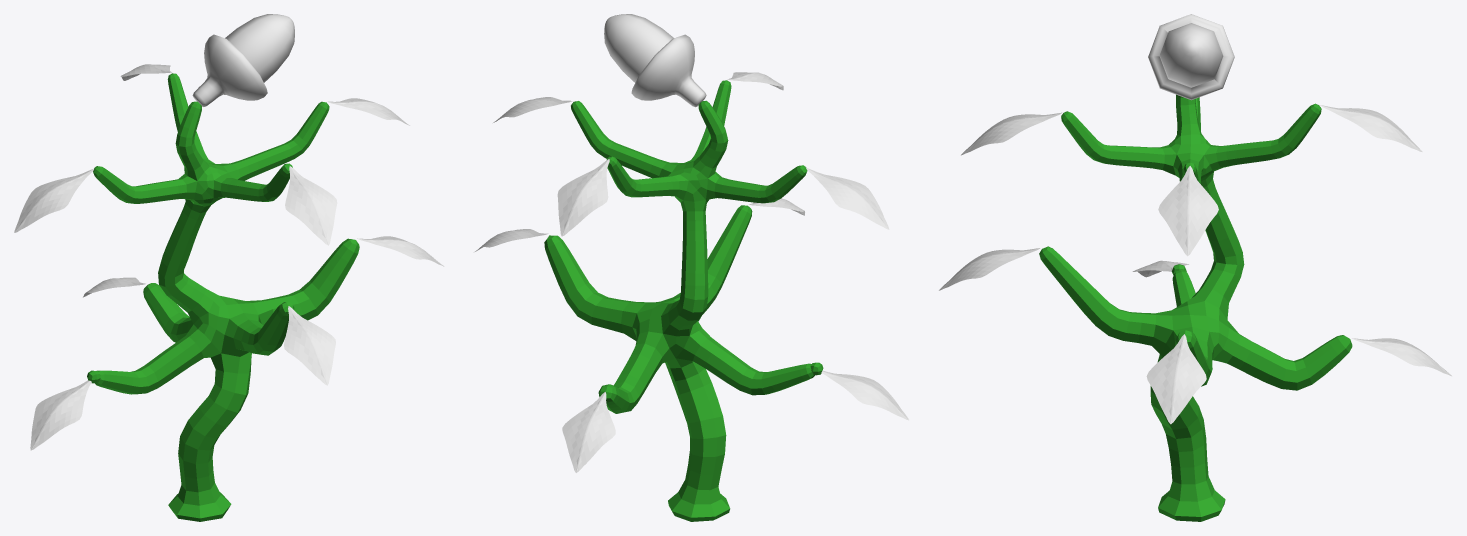
Rendered from cropState3.fbx.
3 renders of one model, left to right at view 1: azimuth 30°, elevation 25°; view 2: azimuth 150°, elevation 25°; view 3: azimuth 270°, elevation 25°, orthographic. The views are drawn at different scales.
Visible parts, largest first — view 1: tallo3, hojas3, fruit; view 2: tallo3, hojas3, fruit; view 3: tallo3, hojas3, fruit.
Boxes of the visible parts, box(x1,y1,x2,y2) form: tallo3: box(87, 73, 359, 521); hojas3: box(14, 64, 444, 450); fruit: box(192, 14, 294, 106); tallo3: box(544, 80, 823, 521); hojas3: box(475, 72, 908, 472); fruit: box(604, 14, 706, 107); tallo3: box(1039, 94, 1352, 521); hojas3: box(939, 105, 1451, 424); fruit: box(1148, 14, 1234, 100).
Size of the model in its own units: 300 by 323 by 289.
